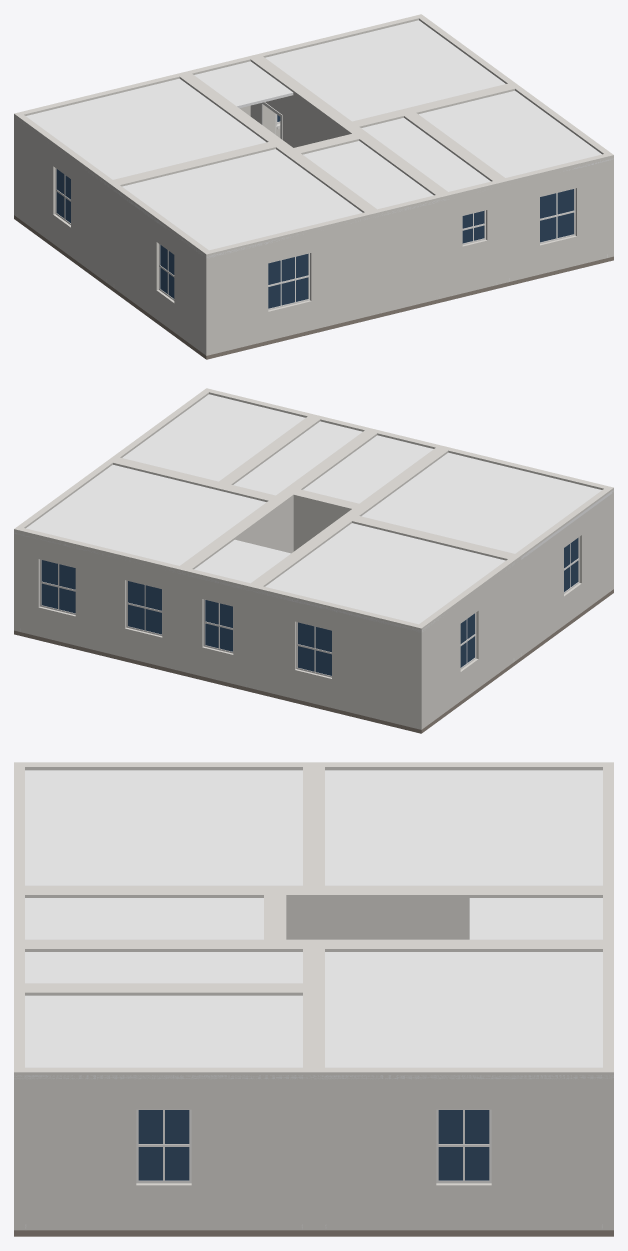
Rendered from interior-second-v002.glb.
3 renders of one model, top to bottom at view 1: azimuth 30°, elevation 25°; view 2: azimuth 150°, elevation 25°; view 3: azimuth 270°, elevation 25°, orthographic. The views are drawn at different scales.
Visible parts, largest first — view 1: interior-second-v002; view 2: interior-second-v002; view 3: interior-second-v002.
Boxes of the visible parts, x1=… form: interior-second-v002: x1=14, y1=14, x2=613, y2=359; interior-second-v002: x1=14, y1=388, x2=613, y2=733; interior-second-v002: x1=14, y1=762, x2=613, y2=1236.
Size of the model in its own units: 13.2 by 3.26 by 10.8.
